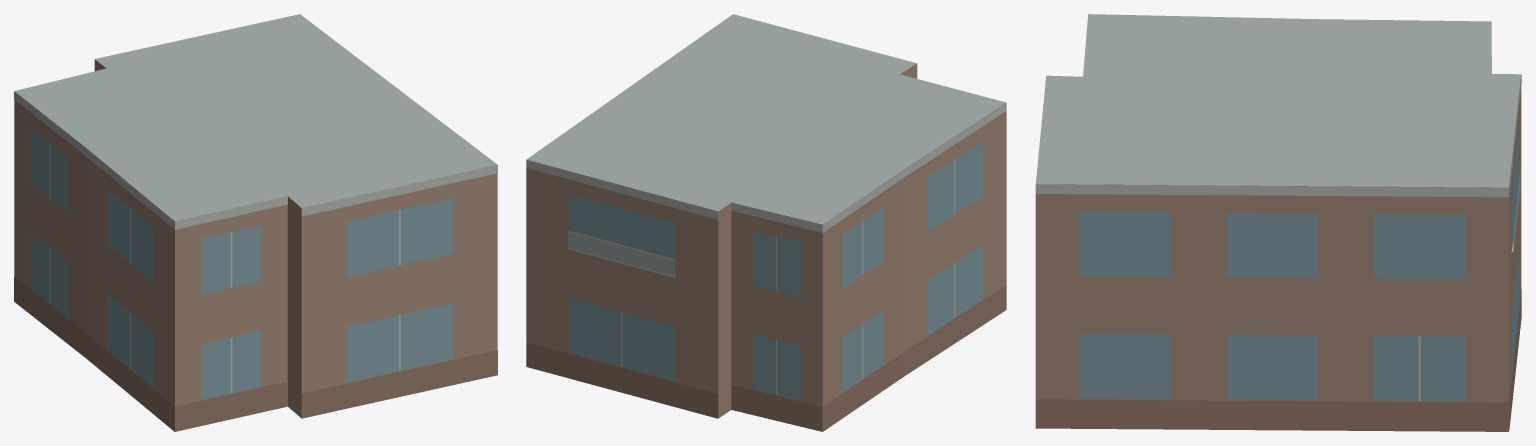
File: survey-upis-32688859.glb
3 renders of one model, left to right at view 1: azimuth 30°, elevation 25°; view 2: azimuth 150°, elevation 25°; view 3: azimuth 270°, elevation 25°, orthographic. The views are drawn at different scales.
Visible parts, largest first — view 1: survey-upis-32688859.tmp; view 2: survey-upis-32688859.tmp; view 3: survey-upis-32688859.tmp.
Boxes of the visible parts, x1,y1,x2,y2 form: survey-upis-32688859.tmp: (14, 14, 497, 431); survey-upis-32688859.tmp: (526, 14, 1006, 431); survey-upis-32688859.tmp: (1035, 14, 1521, 431).
Size of the model in its own units: 9.3 by 6.1 by 11.
